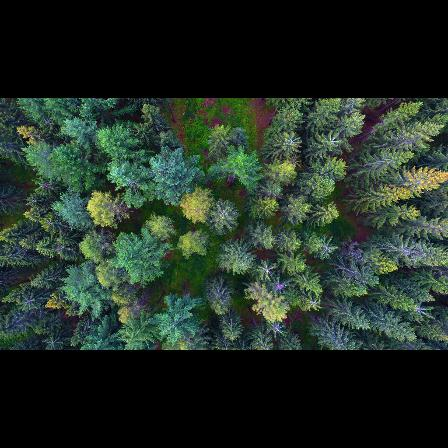Sick: (10, 290, 42, 316), (250, 258, 280, 285), (262, 318, 289, 343), (269, 274, 292, 298), (408, 296, 431, 320)
